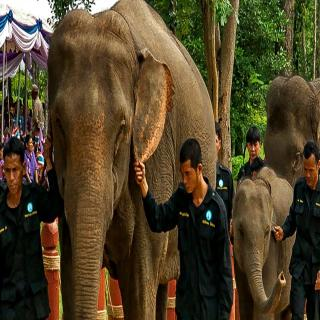Elephant: (44, 0, 218, 319), (232, 165, 301, 320)
